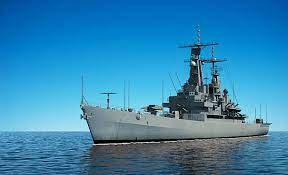Ship: (81, 45, 270, 144)
